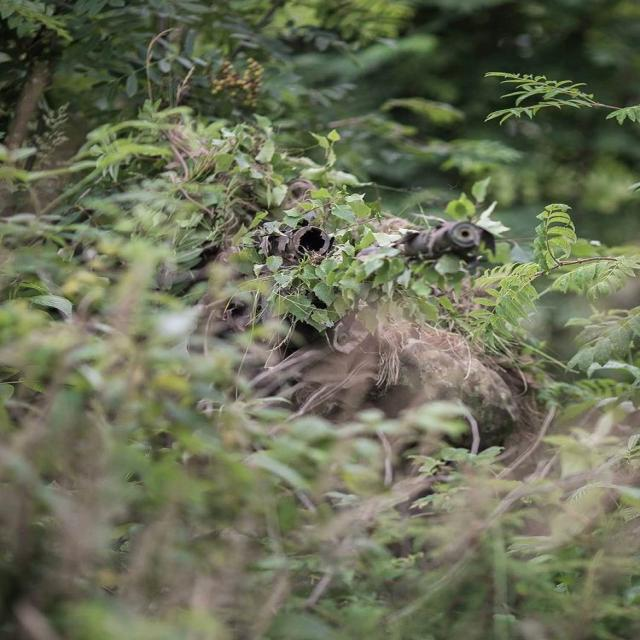Camouflage: (80, 164, 520, 449)
